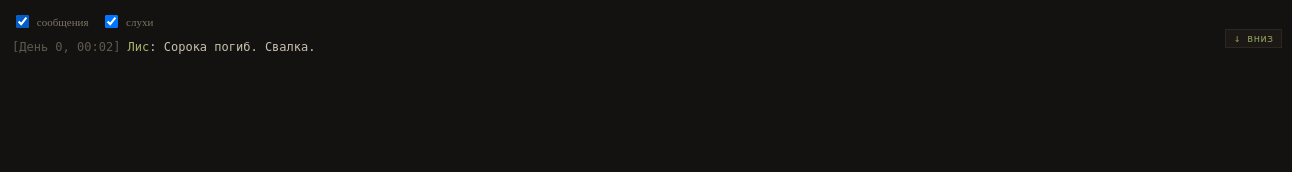
Test: RadioLog — умный автоскролл (прокрутил вверх → не дёргаем) › кнопка «вниз» возвращает к низу и снимает себя
The width and height of the screenshot is (1292, 172).
Click the button with test id "radio-jump" at (1254, 38), box x1=1225 y1=29 x2=1282 y2=48
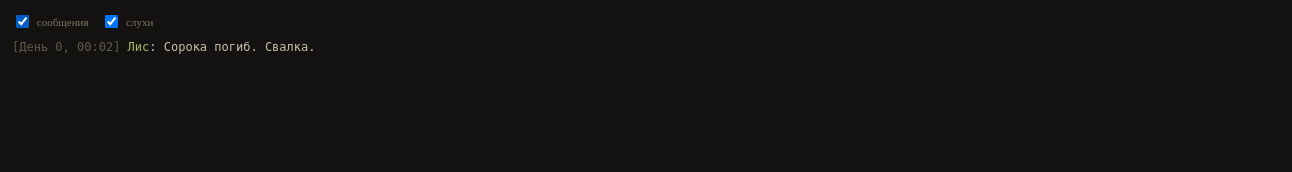
Check: the button with test id "radio-jump" is gone
